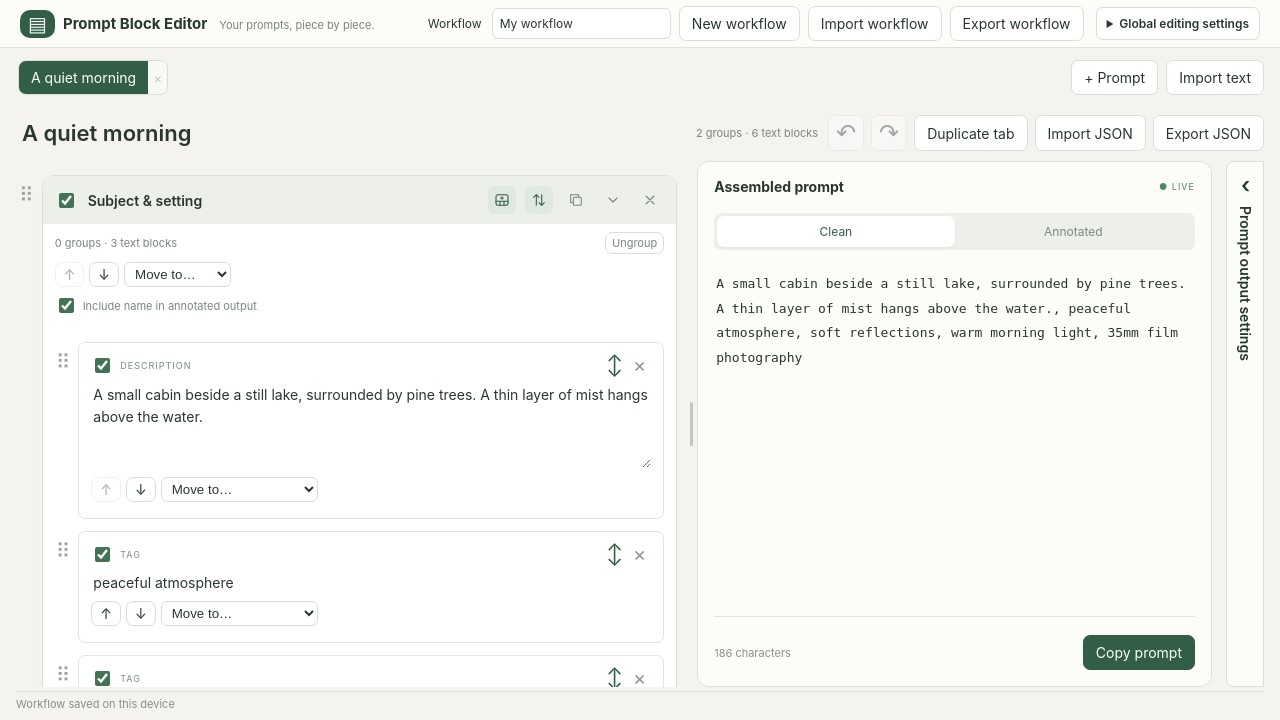
Test: reorders tabs with Alt+arrows without changing the selected prompt or history
Replace the text in the field named "Tab name" with "First". click: [196, 133]
box: 16,117 -> 375,149
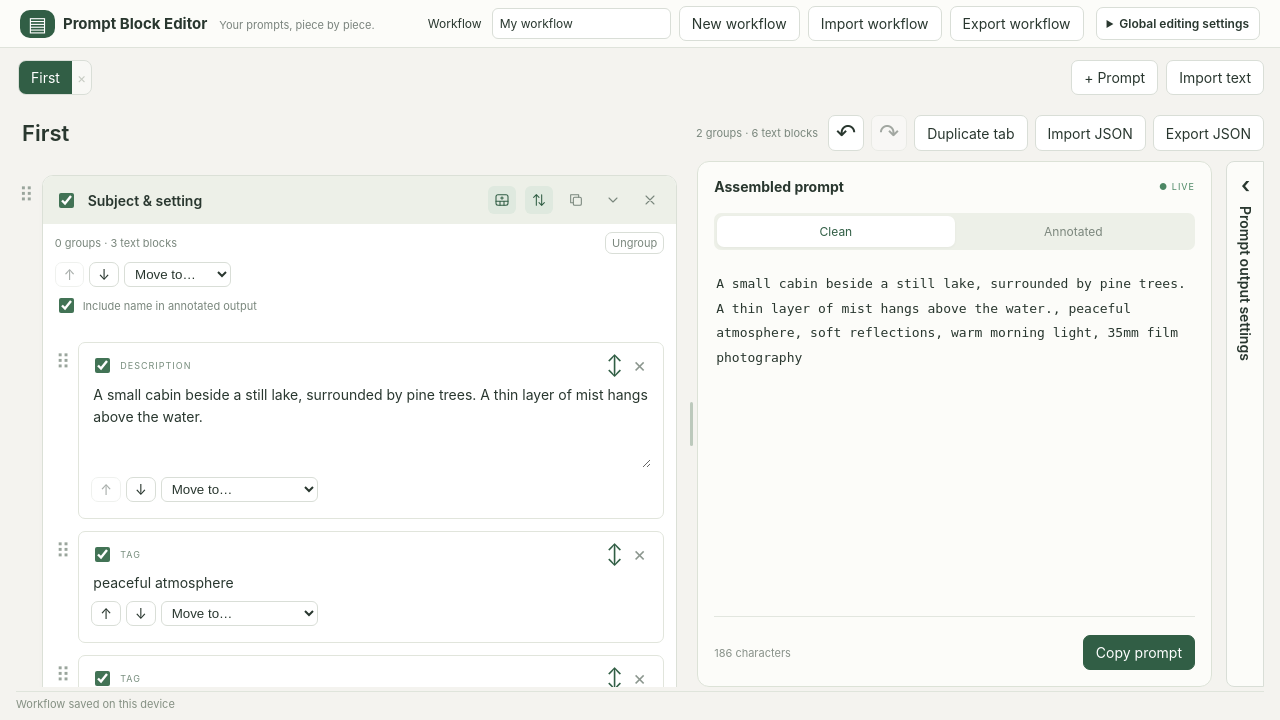
Click the button "+ Prompt". click: [1115, 78]
box: 1071,60 -> 1158,95
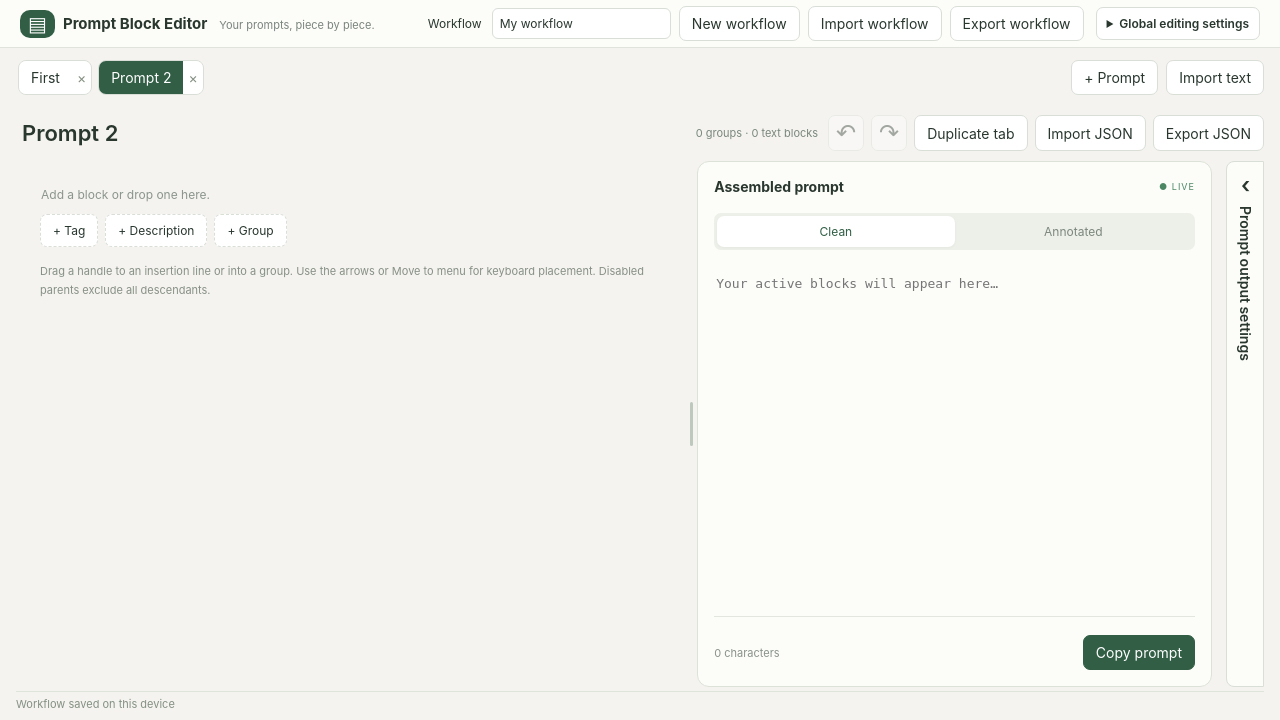
Press ArrowLeft in the tab "Prompt 2", box 99,61 -> 184,94
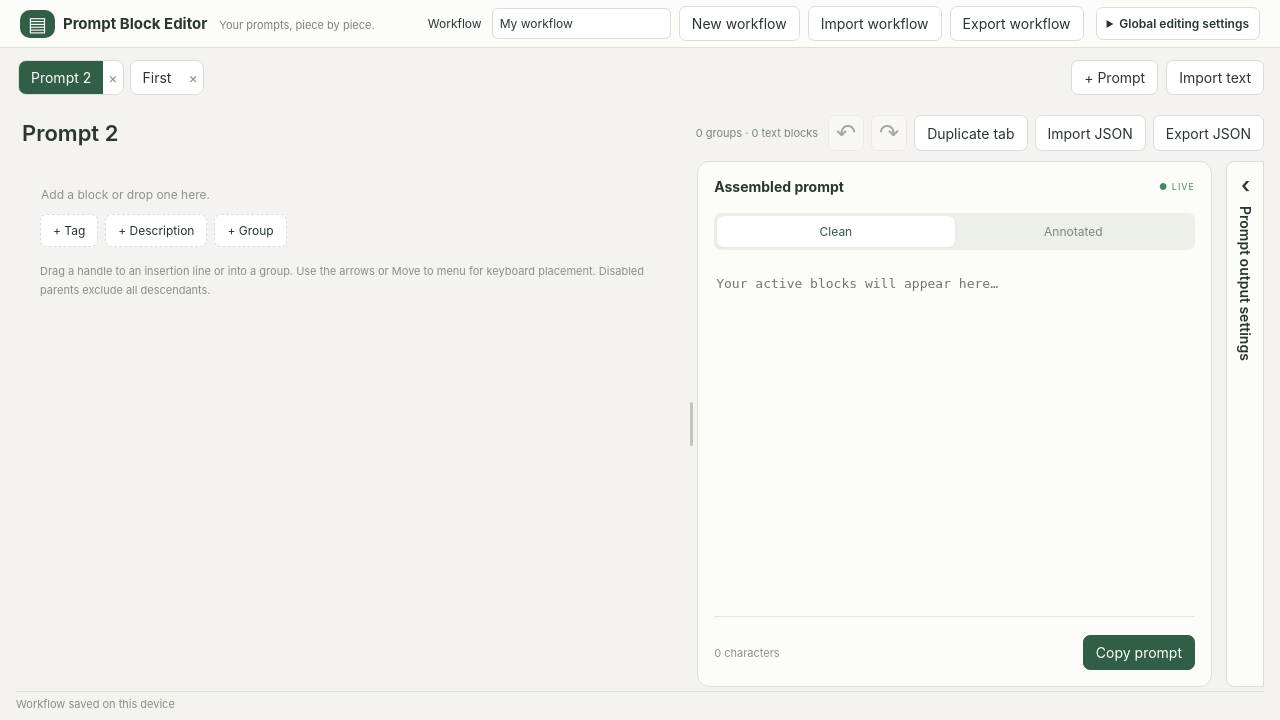
Check: the tabs read "Prompt 2", "First", in this order
Click the tab "First". click: [157, 78]
box: 130,61 -> 183,94
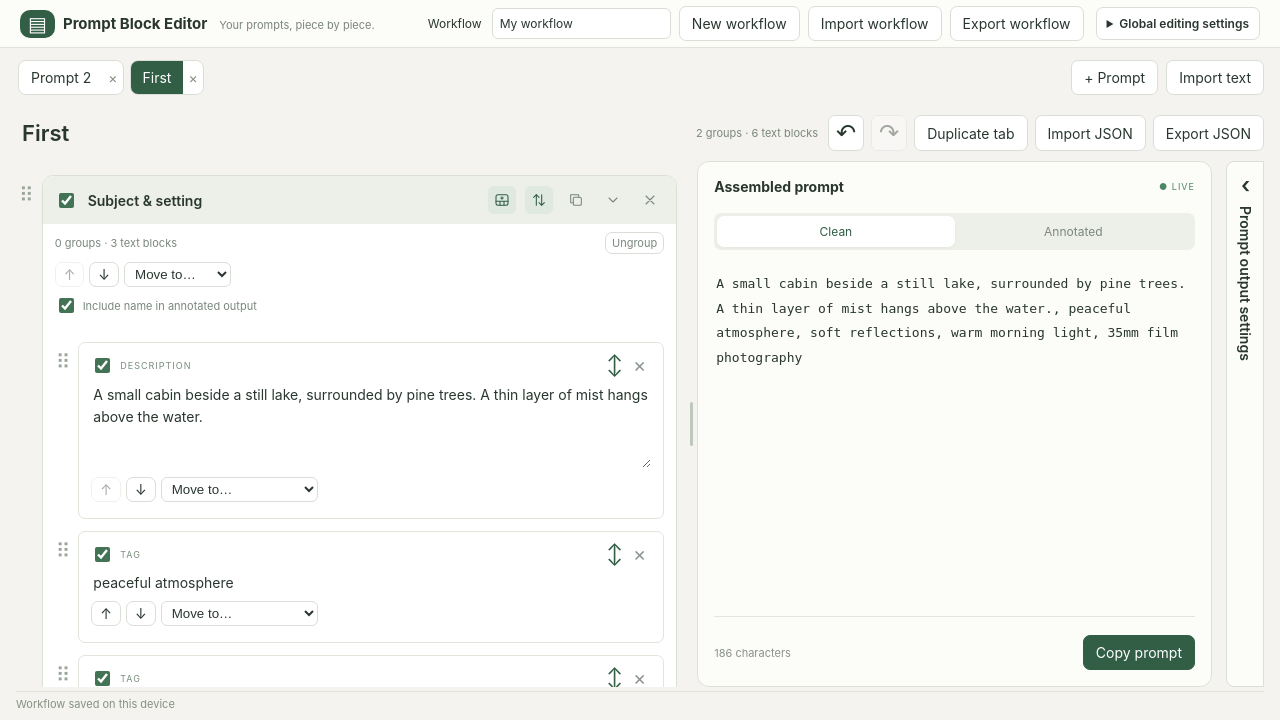
Click the button named "Undo". click: [846, 133]
box: 828,115 -> 864,151
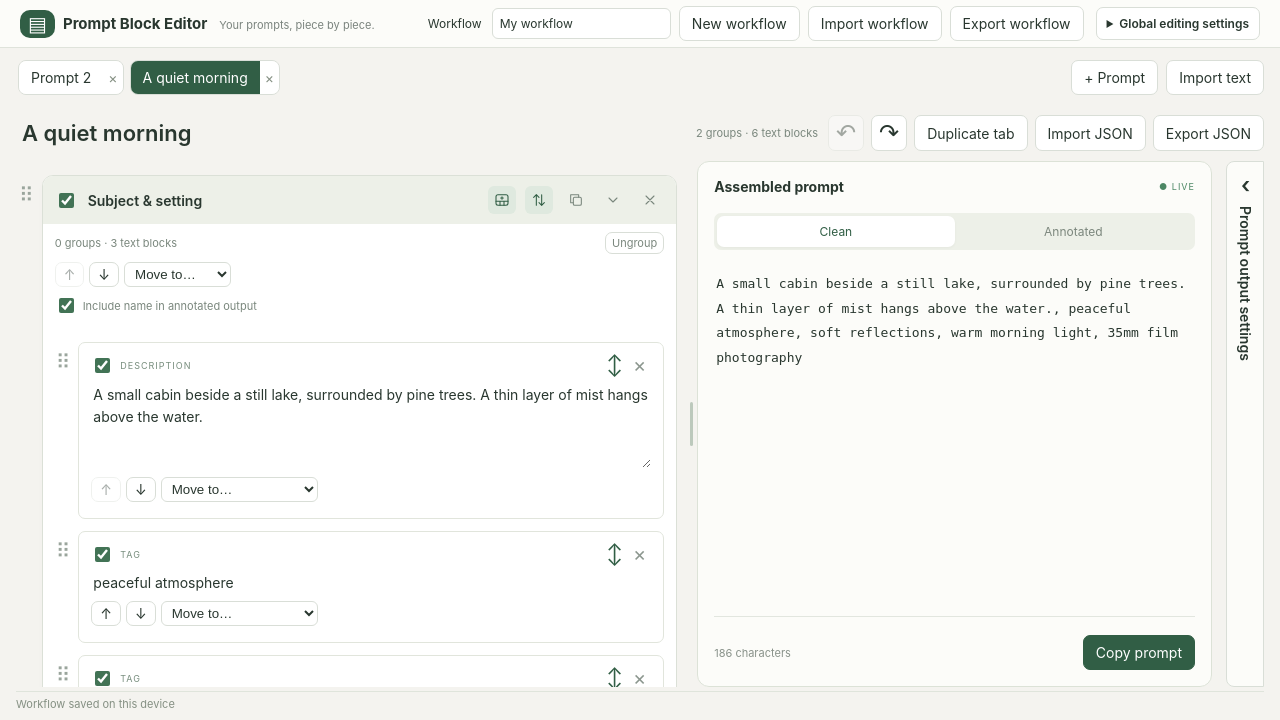
Check: the field named "Tab name" holds "A quiet morning", box 16,117 -> 375,149
